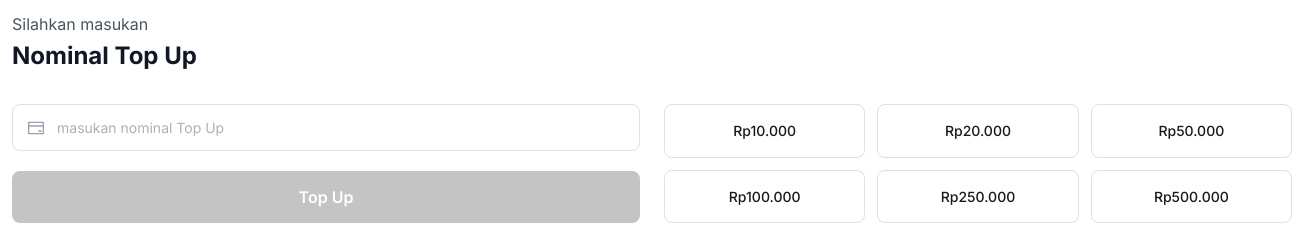
Test: TopupPage › sets input value when preset button is clicked
This screenshot has width=1304, height=240.
What coordinates should you click on to do the following:
click the button "Rp50.000"
I would click on:
 (1191, 131)
Its box is 1091,104 -> 1292,158.
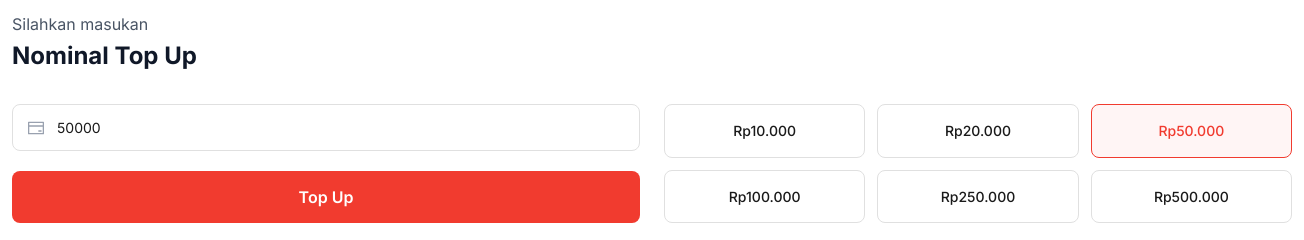
Now the number field with placeholder "masukan nominal Top Up" holds "50000", box 12,104 -> 640,151
